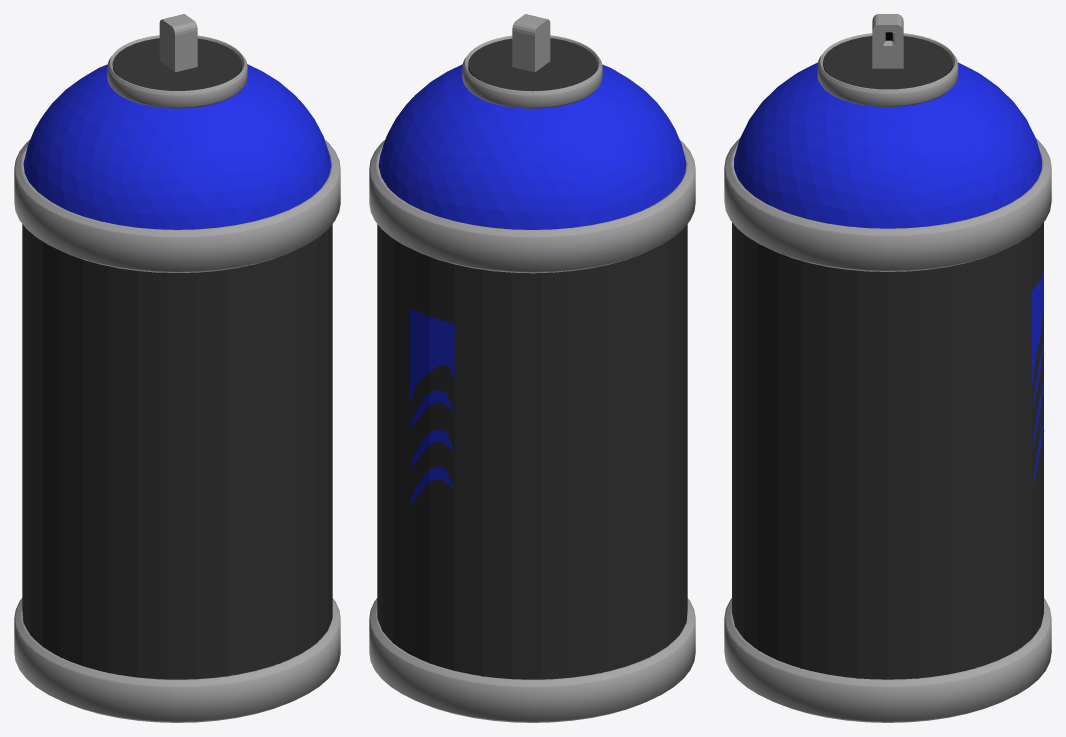
Rendered from spray can.fbx.
3 views of the same model, side by side, from view 1: azimuth 30°, elevation 25°; view 2: azimuth 150°, elevation 25°; view 3: azimuth 270°, elevation 25° (orthographic).
Visible parts, largest first — view 1: Can, Can top, Ring 2, Ring 1, Flat top, Ring 3, Can tip; view 2: Can, Can top, Ring 2, Ring 1, Flat top, Ring 3, Can tip; view 3: Can, Can top, Ring 2, Ring 1, Flat top, Ring 3, Can tip.
Part boxes in pixels (x1=…): Can: x1=22, y1=206, x2=332, y2=679; Can top: x1=23, y1=64, x2=331, y2=229; Ring 2: x1=14, y1=140, x2=340, y2=272; Ring 1: x1=14, y1=598, x2=340, y2=722; Flat top: x1=112, y1=38, x2=241, y2=90; Ring 3: x1=107, y1=35, x2=247, y2=108; Can tip: x1=159, y1=14, x2=197, y2=72; Can: x1=377, y1=224, x2=687, y2=679; Can top: x1=378, y1=64, x2=686, y2=229; Ring 2: x1=369, y1=140, x2=695, y2=273; Ring 1: x1=369, y1=598, x2=695, y2=722; Flat top: x1=468, y1=38, x2=597, y2=91; Ring 3: x1=462, y1=35, x2=602, y2=108; Can tip: x1=512, y1=14, x2=550, y2=72; Can: x1=732, y1=208, x2=1044, y2=679; Can top: x1=734, y1=62, x2=1041, y2=228; Ring 2: x1=724, y1=138, x2=1051, y2=271; Ring 1: x1=724, y1=598, x2=1051, y2=722; Flat top: x1=823, y1=36, x2=952, y2=89; Ring 3: x1=817, y1=33, x2=958, y2=106; Can tip: x1=872, y1=14, x2=903, y2=68.
Size of the model in its own units: 315 by 678 by 315.
